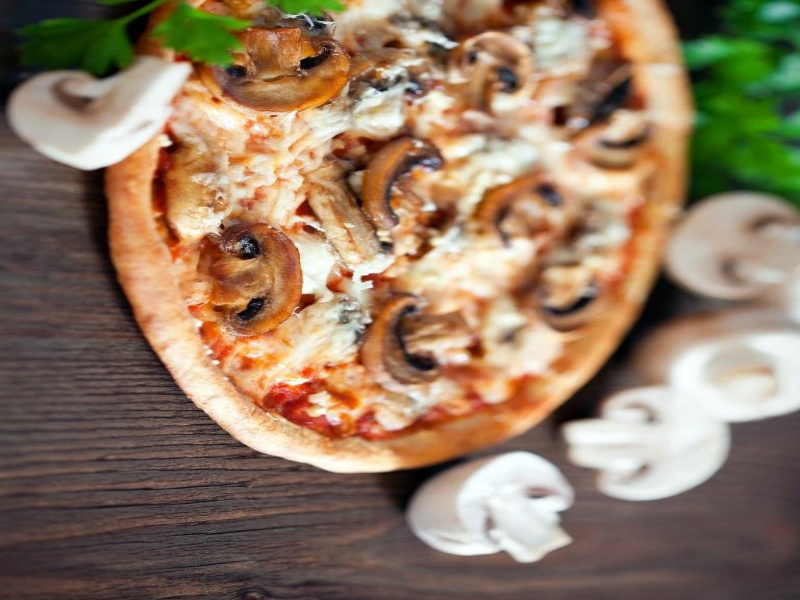champignon: (354, 291, 485, 403), (209, 27, 359, 120), (193, 218, 309, 338), (359, 126, 452, 242)
